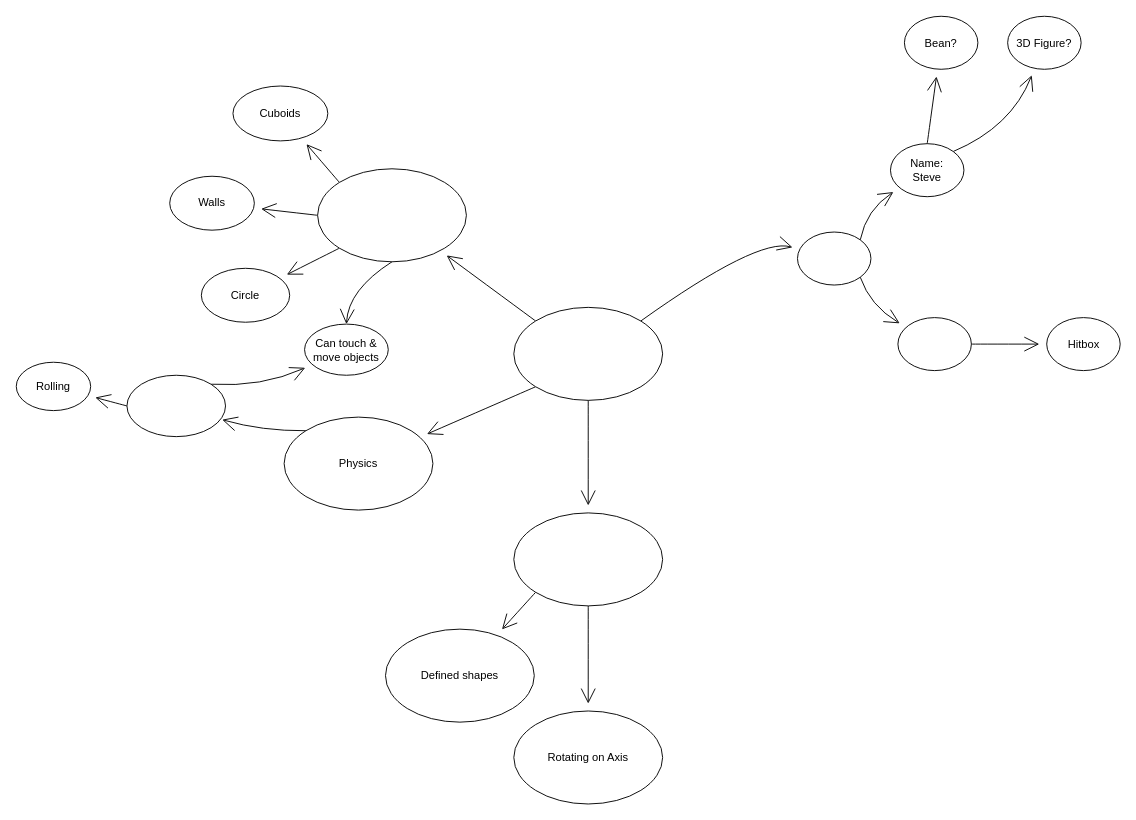
The diagram is 1136 pixels wide and 820 high, and some of its shapes have lost their labels. Here are the shapes that lost their labels. From the top down, the centre of each, then its label:
At (391,215): "Objects".
At (834,258): "Player".
At (588,353): "Obstacle Course".
At (934,344): "Boundry".
At (176,405): "Momentum".
At (588,559): "If basics are done".
